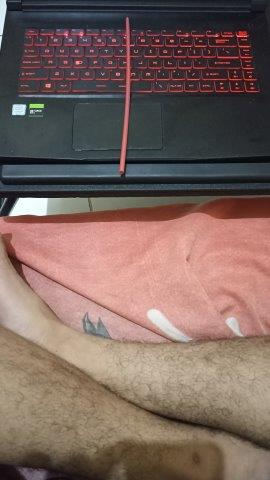sedotan: (119, 18, 131, 172)
